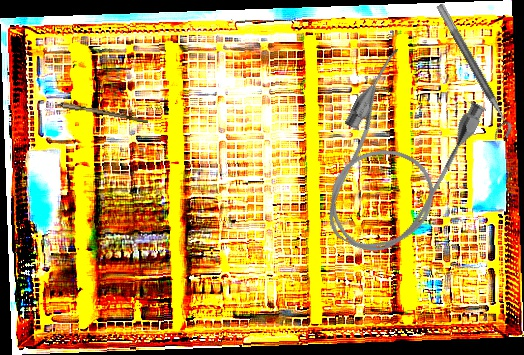Cannula: (296, 42, 493, 272)
Fixation Ring: (424, 2, 517, 144)
Surgical Spoon: (29, 96, 149, 124)
